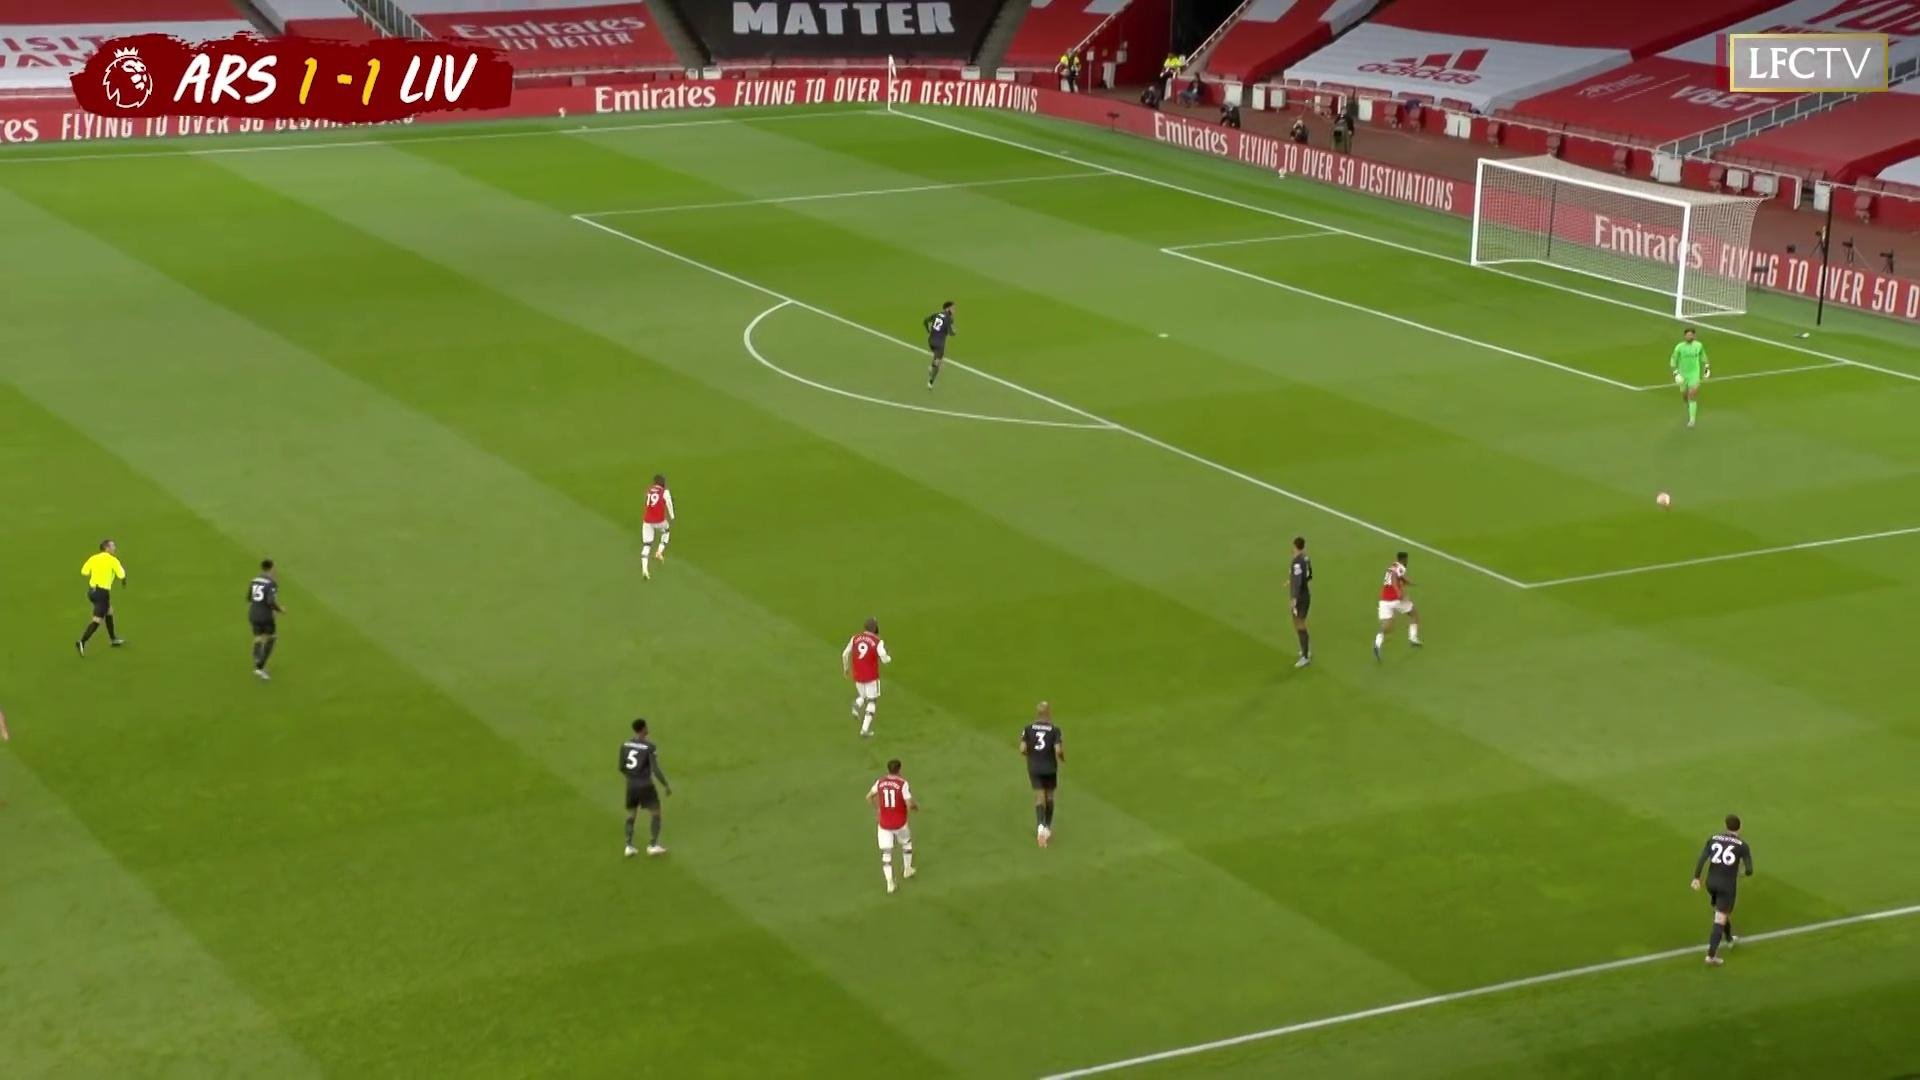ball: (1656, 491, 1672, 509)
